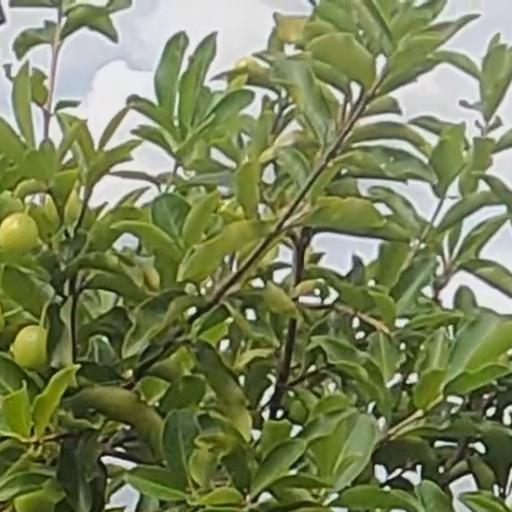acerola: (3, 214, 37, 255), (17, 327, 48, 368)
